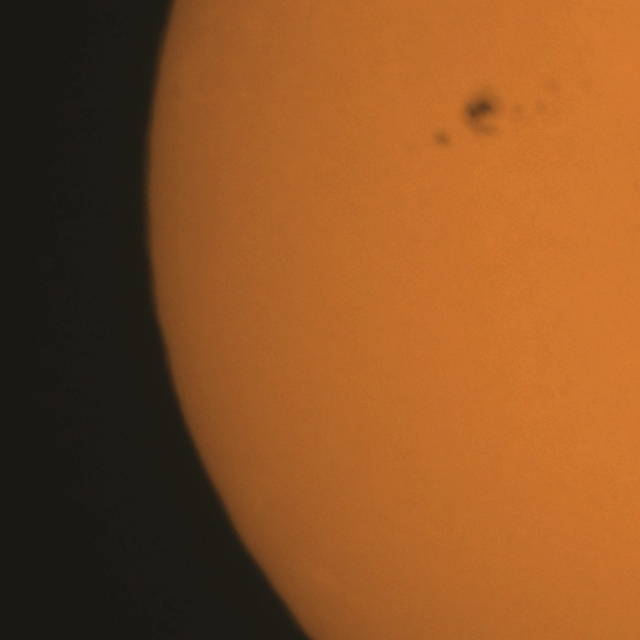sunspot: (456, 82, 522, 133), (429, 121, 467, 152)
